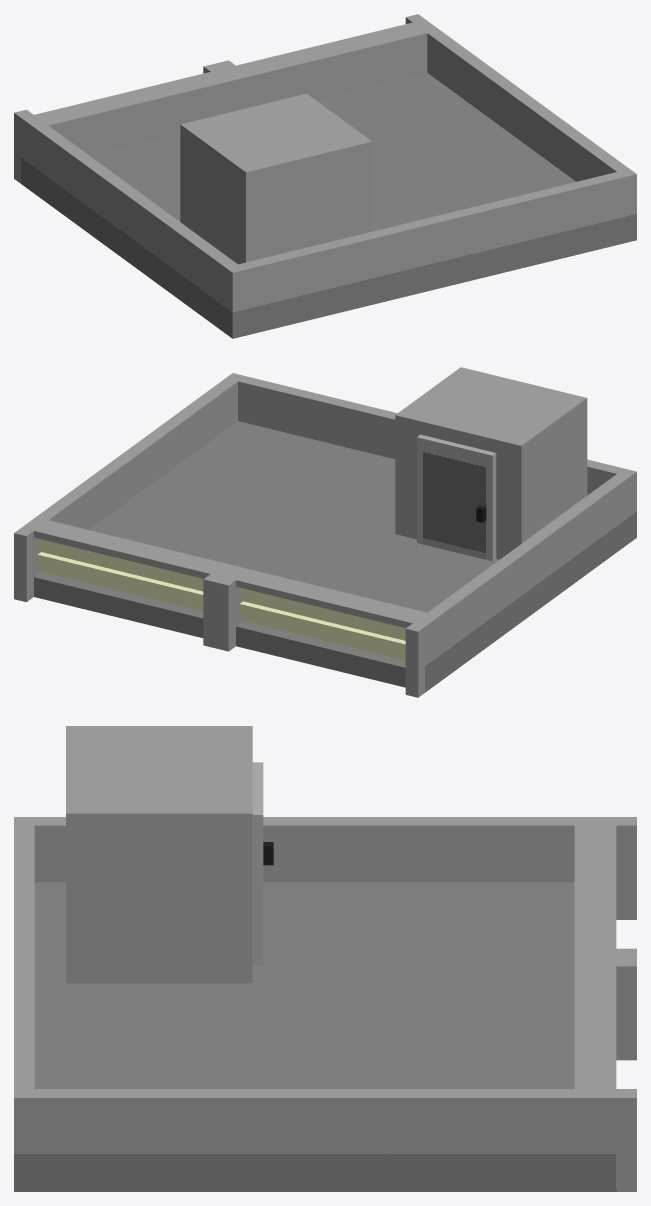
Rendered from obj_story04.fbx.
3 renders of one model, top to bottom at view 1: azimuth 30°, elevation 25°; view 2: azimuth 150°, elevation 25°; view 3: azimuth 270°, elevation 25°, orthographic. The views are drawn at different scales.
Parts seen in each view (by area): view 1: obj_story04; view 2: obj_story04; view 3: obj_story04.
Part boxes in pixels (<box>): obj_story04: <box>14,14,636,338</box>; obj_story04: <box>14,367,636,697</box>; obj_story04: <box>14,726,636,1191</box>.
Bounding box in the file's own units: 6.4 × 6 × 2.2.
1 material, 1 textured.
